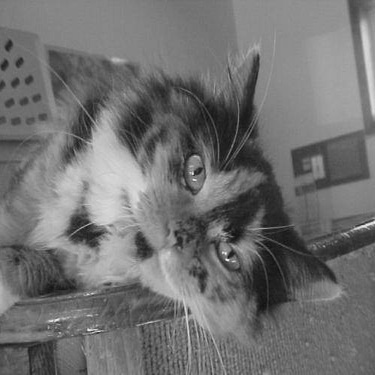cat: (10, 6, 339, 348)
